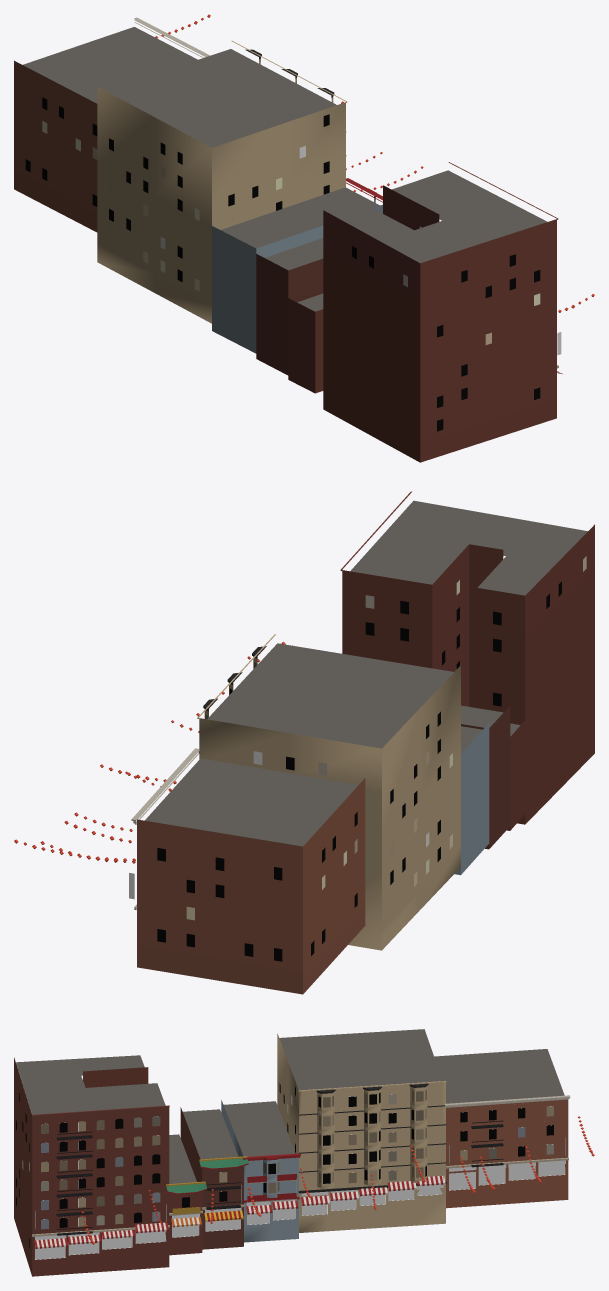
The picture shows the model from 3 angles, top to bottom: view 1: azimuth 30°, elevation 25°; view 2: azimuth 150°, elevation 25°; view 3: azimuth 270°, elevation 25°; orthographic projection. The views are drawn at different scales.
Parts seen in each view (by area): view 1: L1_brickred, L1_roof, L1_stucco, L1_d_brickred, L1_d_stucco, L1_win, L1_stone; view 2: L1_brickred, L1_roof, L1_stucco, L1_win, L1_d_brickred, L1_d_stucco, L1_stone, L1_lantern; view 3: L1_brickred, L1_roof, L1_stucco, L1_win, L1_shopint, L1_d_fabric, L1_stone, L1_d_metal, L1_sign, L1_d_paint, L1_lantern, L1_d_stone (+1 smaller).
Part boxes in pixels (x1,y1,x2,y2): L1_brickred: (14, 60, 556, 462); L1_roof: (23, 27, 547, 311); L1_stucco: (97, 58, 382, 323); L1_d_brickred: (256, 254, 323, 393); L1_d_stucco: (212, 226, 256, 353); L1_win: (25, 62, 540, 431); L1_stone: (134, 17, 558, 368); L1_brickred: (137, 524, 594, 994); L1_roof: (145, 500, 587, 846); L1_stucco: (199, 658, 460, 950); L1_win: (157, 556, 586, 961); L1_d_brickred: (489, 705, 526, 848); L1_d_stucco: (454, 723, 489, 875); L1_stone: (131, 491, 411, 909); L1_lantern: (14, 642, 292, 863); L1_brickred: (14, 1057, 568, 1276); L1_roof: (16, 1029, 564, 1183); L1_stucco: (221, 1033, 445, 1242); L1_win: (16, 1083, 553, 1247); L1_shopint: (35, 1164, 565, 1259); L1_d_fabric: (34, 1176, 445, 1248); L1_stone: (32, 1081, 570, 1236); L1_d_metal: (56, 1120, 503, 1235); L1_sign: (35, 1137, 565, 1240); L1_d_paint: (166, 1156, 296, 1215); L1_lantern: (81, 1116, 594, 1244); L1_d_stone: (248, 1099, 568, 1172).
Size of the model in its own units: 43.37 by 28.66 by 89.83.
